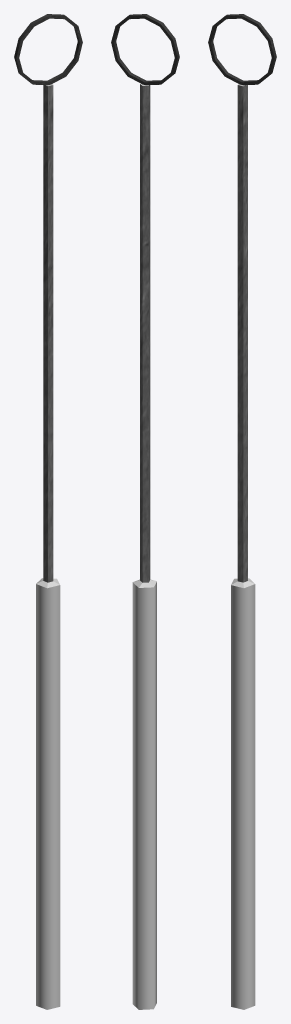
The model's file is strieking rod.FBX.
3 renders of one model, left to right at view 1: azimuth 30°, elevation 25°; view 2: azimuth 150°, elevation 25°; view 3: azimuth 330°, elevation 25°, orthographic.
Parts seen in each view (by area): view 1: striek rod; view 2: striek rod; view 3: striek rod.
Part boxes in pixels (x1,y1,x2,y2): striek rod: (14,14,82,1009); striek rod: (111,14,179,1009); striek rod: (208,14,276,1009).
Size of the model in its own units: 5.43 by 77.13 by 1.64.
1 material, 1 textured.
